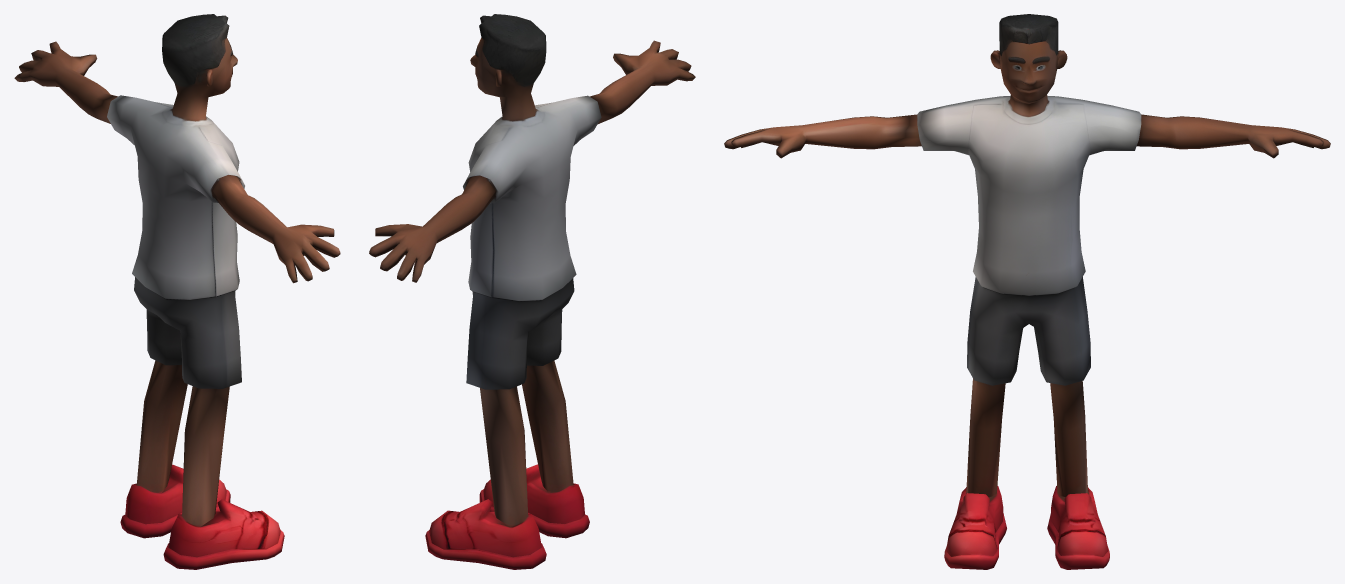
3 views of the same model, side by side, from view 1: azimuth 30°, elevation 25°; view 2: azimuth 150°, elevation 25°; view 3: azimuth 270°, elevation 25° (orthographic). The views are drawn at different scales.
Visible parts, largest first — view 1: tripo_node_34f0f2fe-8870-4e67-8726-8f9db2e24892; view 2: tripo_node_34f0f2fe-8870-4e67-8726-8f9db2e24892; view 3: tripo_node_34f0f2fe-8870-4e67-8726-8f9db2e24892.
Boxes of the visible parts, x1,y1,x2,y2 form: tripo_node_34f0f2fe-8870-4e67-8726-8f9db2e24892: [14, 14, 340, 569]; tripo_node_34f0f2fe-8870-4e67-8726-8f9db2e24892: [369, 14, 695, 569]; tripo_node_34f0f2fe-8870-4e67-8726-8f9db2e24892: [724, 14, 1330, 569].
Bounding box in the file's own units: 0.2134 × 0.9663 × 0.9995.
Materials: 1 (1 with a texture image).
